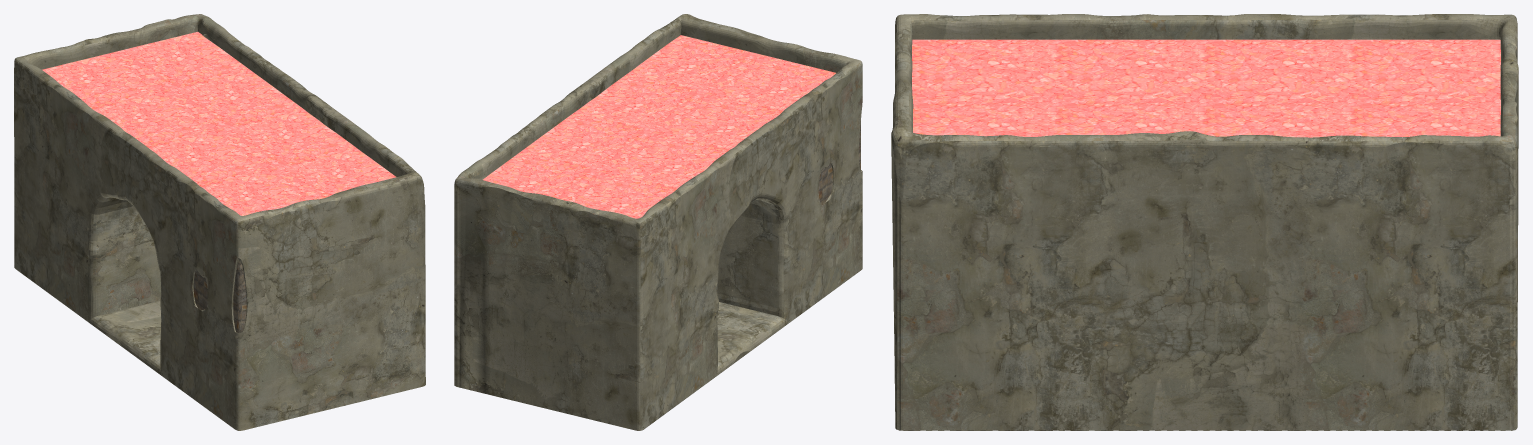
The model's file is historic_middle_eastern_stove.glb.
3 renders of one model, left to right at view 1: azimuth 30°, elevation 25°; view 2: azimuth 150°, elevation 25°; view 3: azimuth 270°, elevation 25°, orthographic. The views are drawn at different scales.
Parts seen in each view (by area): view 1: Stove_2, Plane_6, Inside_7; view 2: Stove_2, Plane_6, Inside_7; view 3: Stove_2, Plane_6.
Part boxes in pixels (box(x1,y1,x2,y2)): Stove_2: box(14, 14, 425, 430); Plane_6: box(42, 32, 396, 215); Inside_7: box(193, 261, 246, 332); Stove_2: box(454, 14, 862, 430); Plane_6: box(483, 35, 835, 218); Inside_7: box(818, 121, 860, 204); Stove_2: box(891, 14, 1518, 430); Plane_6: box(912, 39, 1500, 137).
Size of the model in its own units: 3.36 by 3.58 by 6.9.
3 materials, 3 textured.
